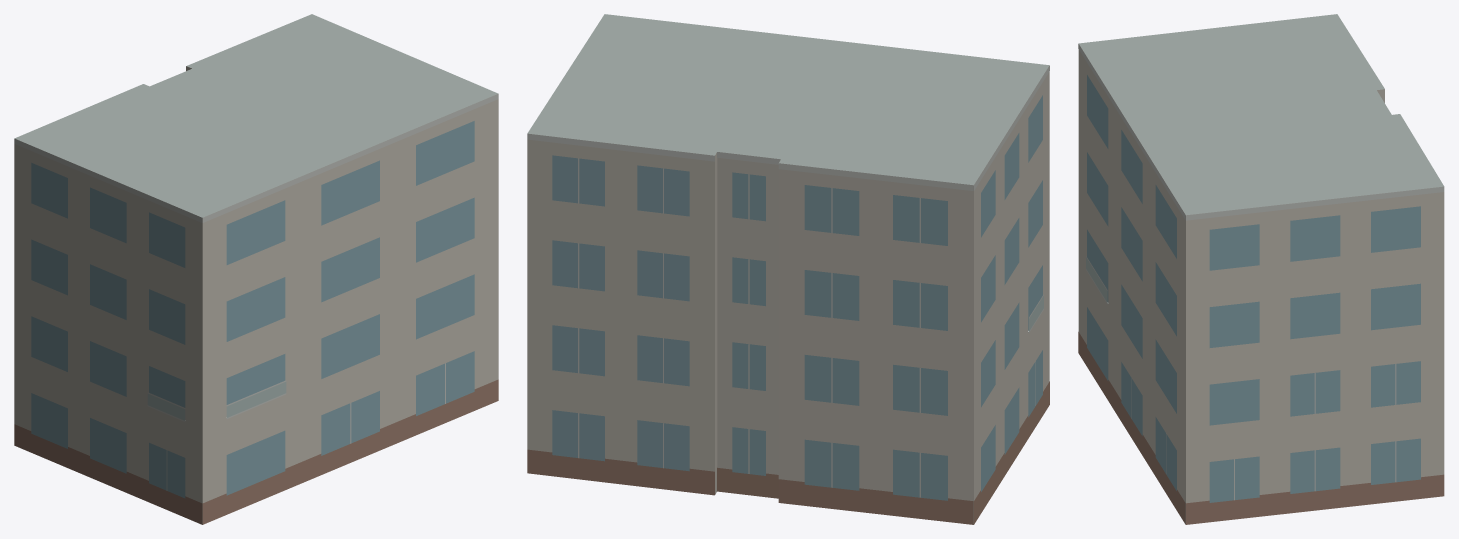
Rendered from survey-upis-32648974.glb.
3 renders of one model, left to right at view 1: azimuth 30°, elevation 25°; view 2: azimuth 150°, elevation 25°; view 3: azimuth 270°, elevation 25°, orthographic. The views are drawn at different scales.
Parts seen in each view (by area): view 1: survey-upis-32648974.tmp; view 2: survey-upis-32648974.tmp; view 3: survey-upis-32648974.tmp.
Boxes of the visible parts, x1,y1,x2,y2 form: survey-upis-32648974.tmp: (14, 14, 498, 524); survey-upis-32648974.tmp: (527, 14, 1049, 524); survey-upis-32648974.tmp: (1078, 14, 1444, 524).
Size of the model in its own units: 19.46 by 13.95 by 14.95.
